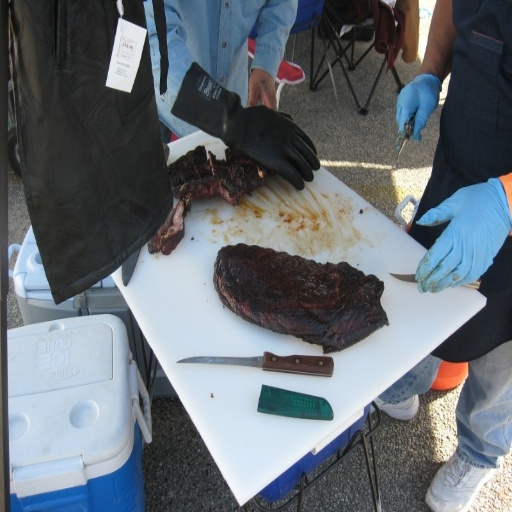hand: (412, 177, 508, 294), (240, 104, 320, 189), (401, 59, 446, 139), (245, 69, 279, 110)
